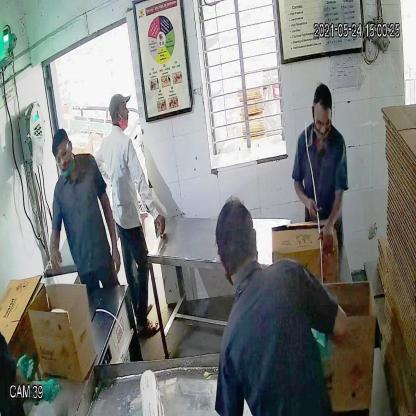goggles: (51, 143, 74, 168), (310, 110, 333, 132)
